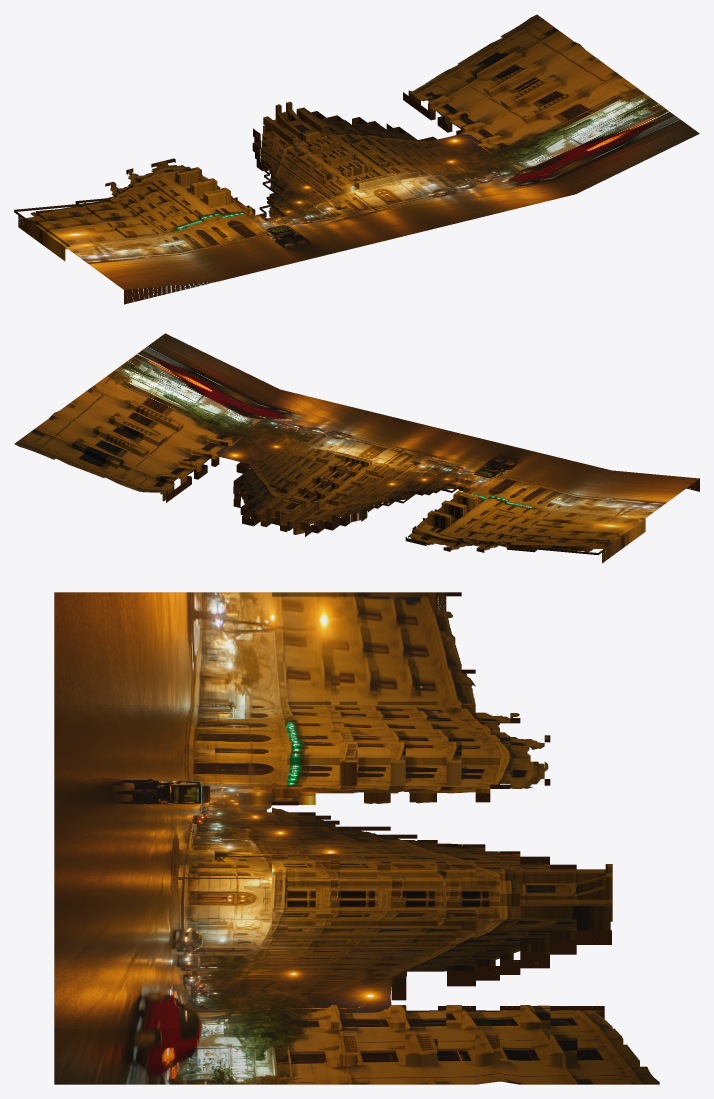
File: 2d to 3d_tallat harbImage_noBG.fbx
3 renders of one model, top to bottom at view 1: azimuth 30°, elevation 25°; view 2: azimuth 150°, elevation 25°; view 3: azimuth 270°, elevation 25°, orthographic. The views are drawn at different scales.
Visible parts, largest first — view 1: Plane; view 2: Plane; view 3: Plane.
Part boxes in pixels (x1,y1,x2,y2): Plane: (14,14,699,304); Plane: (14,333,699,563); Plane: (54,592,659,1084).
Bounding box in the file's own units: 2033 × 135 × 996.
1 material, 1 textured.
